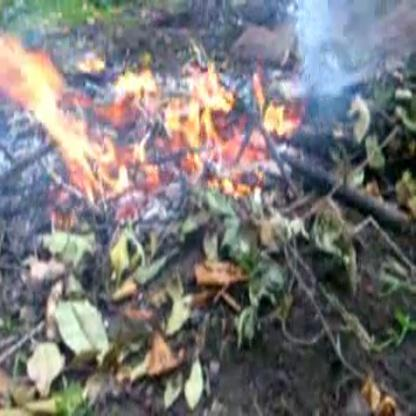Fire: (0, 32, 300, 196)
